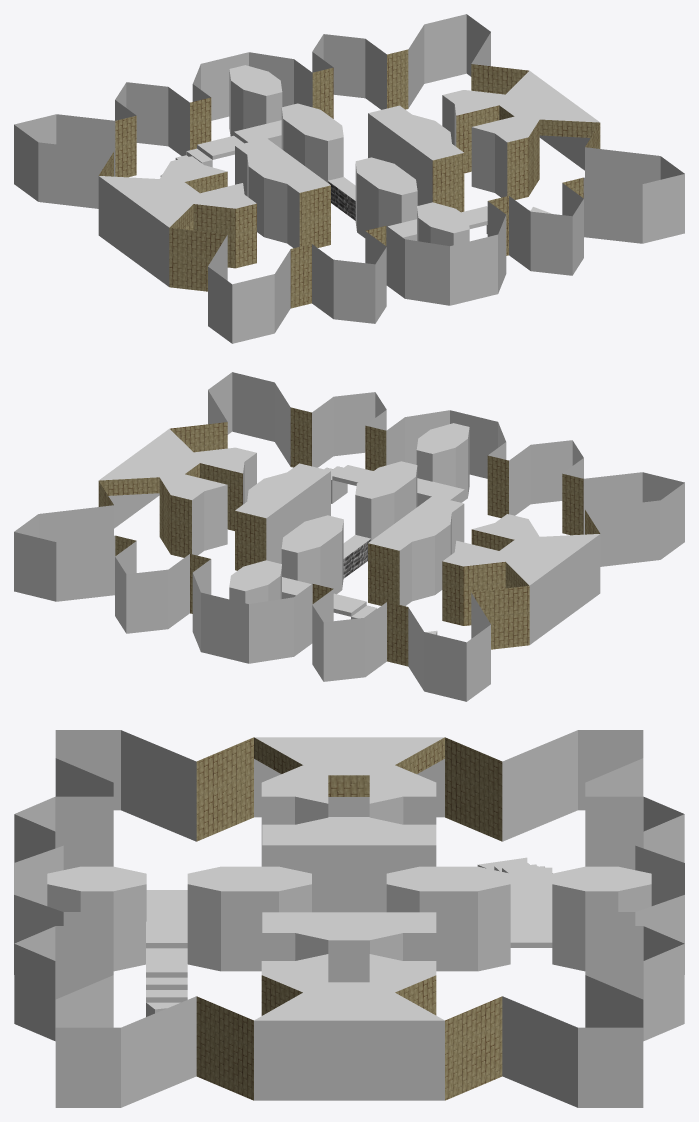
File: Piano_1.fbx
The picture shows the model from 3 angles, top to bottom: view 1: azimuth 30°, elevation 25°; view 2: azimuth 150°, elevation 25°; view 3: azimuth 270°, elevation 25°; orthographic projection. The views are drawn at different scales.
Visible parts, largest first — view 1: piano_1, parete_doppia, ostacoli_forma_freccia, parete_centrale, soffito_galleria, pareti_centrali_laterali, piano_sospeso_minnore_D, piano_sospeso_D; view 2: piano_1, parete_doppia, ostacoli_forma_freccia, parete_centrale, soffito_galleria, pareti_centrali_laterali, piano_sospeso_S, piano_sospeso_D, piano_sospeso_minore_S; view 3: piano_1, parete_doppia, parete_centrale, pareti_centrali_laterali, ostacoli_forma_freccia, soffito_galleria, piano_sospeso_minnore_D, piano_sospeso_S, piano_sospeso_minore_S, gradini_S, piano_sospeso_D, gradini_D.
Boxes of the visible parts, x1=… form: piano_1: x1=14, y1=14, x2=684, y2=343; parete_doppia: x1=235, y1=105, x2=464, y2=248; ostacoli_forma_freccia: x1=160, y1=90, x2=539, y2=268; parete_centrale: x1=281, y1=103, x2=417, y2=240; soffito_galleria: x1=99, y1=71, x2=600, y2=229; pareti_centrali_laterali: x1=229, y1=65, x2=469, y2=246; piano_sospeso_minnore_D: x1=234, y1=120, x2=281, y2=143; piano_sospeso_D: x1=197, y1=135, x2=243, y2=159; piano_1: x1=14, y1=372, x2=684, y2=701; parete_doppia: x1=235, y1=463, x2=464, y2=606; ostacoli_forma_freccia: x1=159, y1=447, x2=539, y2=625; parete_centrale: x1=281, y1=461, x2=417, y2=598; soffito_galleria: x1=98, y1=429, x2=599, y2=587; pareti_centrali_laterali: x1=229, y1=423, x2=469, y2=604; piano_sospeso_S: x1=417, y1=478, x2=464, y2=500; piano_sospeso_D: x1=333, y1=593, x2=366, y2=616; piano_sospeso_minore_S: x1=332, y1=465, x2=373, y2=485; piano_1: x1=14, y1=730, x2=684, y2=1107; parete_doppia: x1=262, y1=817, x2=436, y2=982; parete_centrale: x1=187, y1=866, x2=510, y2=971; pareti_centrali_laterali: x1=47, y1=866, x2=651, y2=971; ostacoli_forma_freccia: x1=261, y1=765, x2=436, y2=1015; soffito_galleria: x1=254, y1=737, x2=444, y2=1020; piano_sospeso_minnore_D: x1=510, y1=890, x2=552, y2=947; piano_sospeso_S: x1=146, y1=890, x2=187, y2=948; piano_sospeso_minore_S: x1=146, y1=948, x2=187, y2=977; gradini_S: x1=146, y1=977, x2=187, y2=1013; piano_sospeso_D: x1=510, y1=871, x2=552, y2=889; gradini_D: x1=477, y1=857, x2=552, y2=873.
Bounding box in the file's own units: 2385 × 300 × 2273.
Materials: 3 (2 with a texture image).
